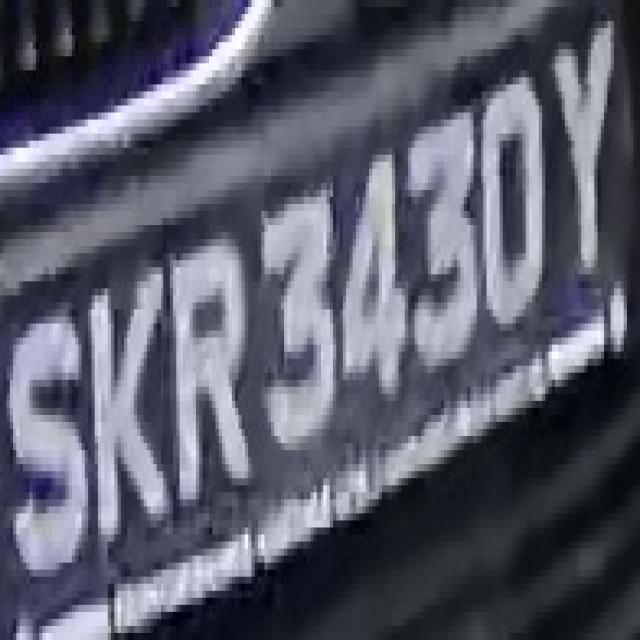0: (467, 63, 552, 352)
3: (402, 98, 483, 408), (252, 183, 340, 464)
4: (330, 148, 414, 457)
K: (85, 260, 170, 563)
R: (160, 225, 258, 513)
S: (10, 274, 85, 612)
Y: (548, 21, 624, 267)
